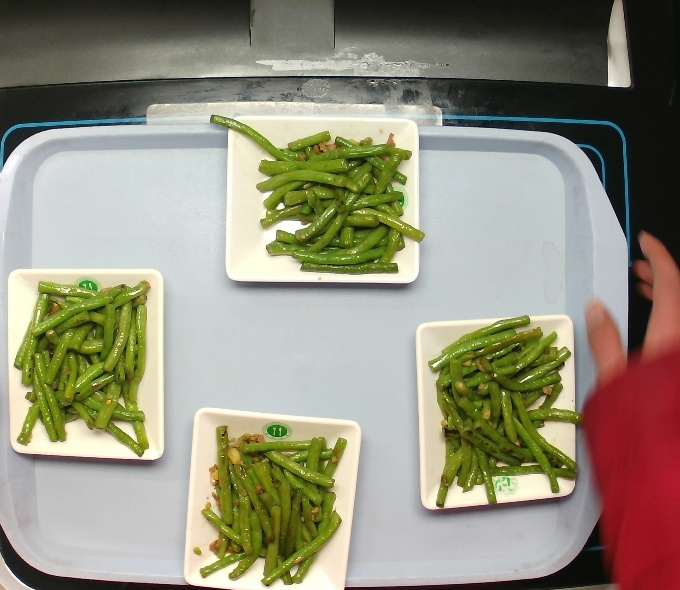wcq-RouMoJiangDou: (0, 266, 182, 467), (231, 112, 426, 287), (431, 315, 572, 515), (192, 411, 348, 589)
